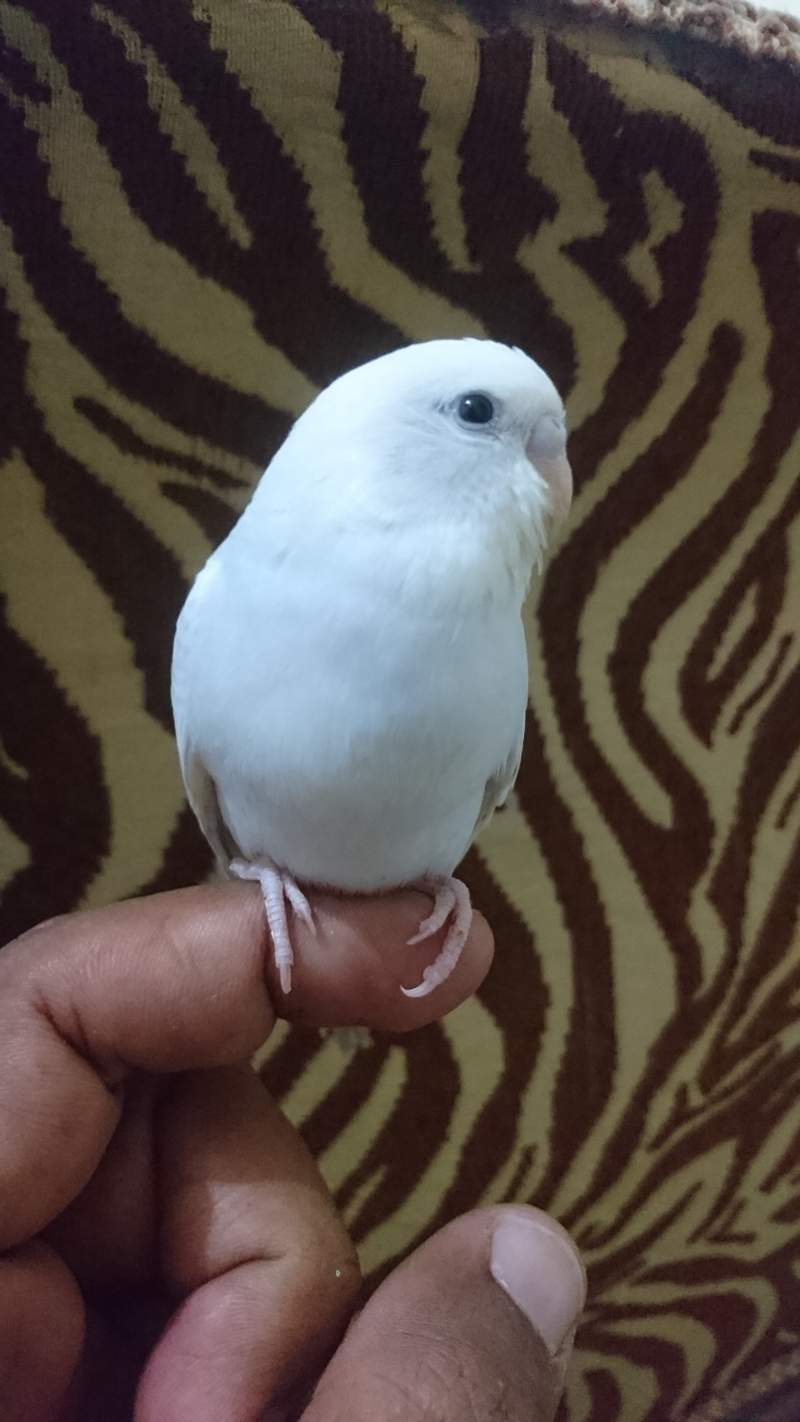budgie: (167, 327, 585, 1012)
